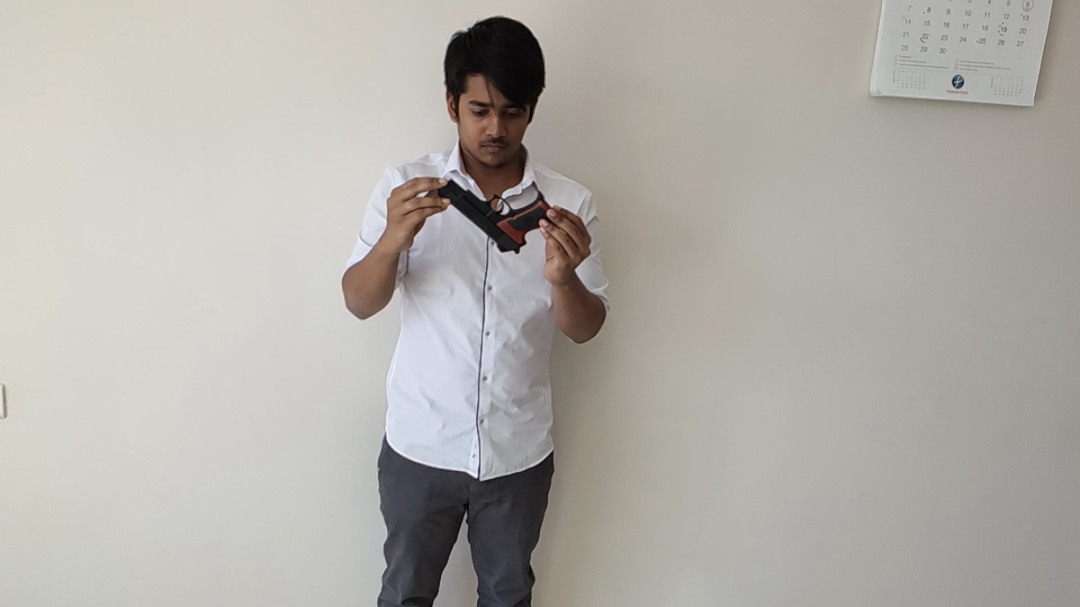gun: (442, 179, 548, 256)
